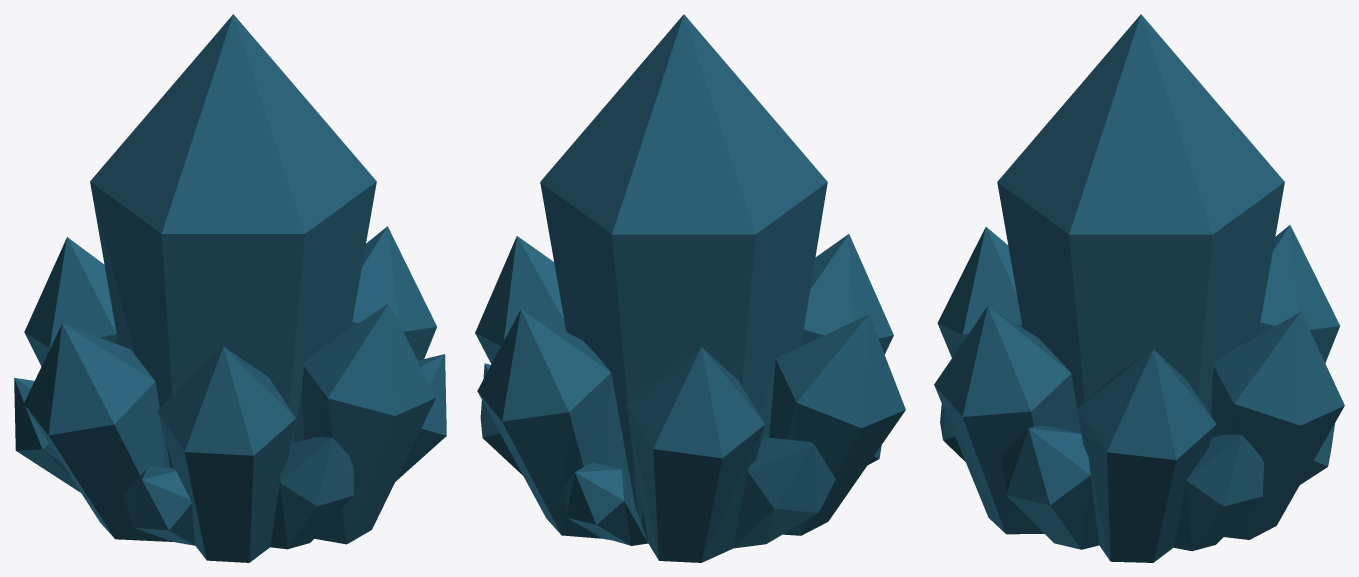
Rendered from crystal_cyan.obj.
The picture shows the model from 3 angles, left to right: view 1: azimuth 30°, elevation 25°; view 2: azimuth 150°, elevation 25°; view 3: azimuth 270°, elevation 25°; orthographic projection.
Visible parts, largest first — view 1: Crystal_Cube; view 2: Crystal_Cube; view 3: Crystal_Cube.
Part boxes in pixels (left/top/right/bottom): Crystal_Cube: left=14, top=14, right=446, bottom=562; Crystal_Cube: left=475, top=14, right=905, bottom=562; Crystal_Cube: left=934, top=14, right=1344, bottom=562.
Size of the model in its own units: 0.8345 by 0.9795 by 0.7515.
